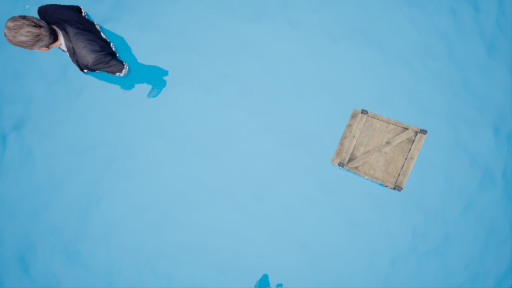person: (10, 8, 167, 111)
